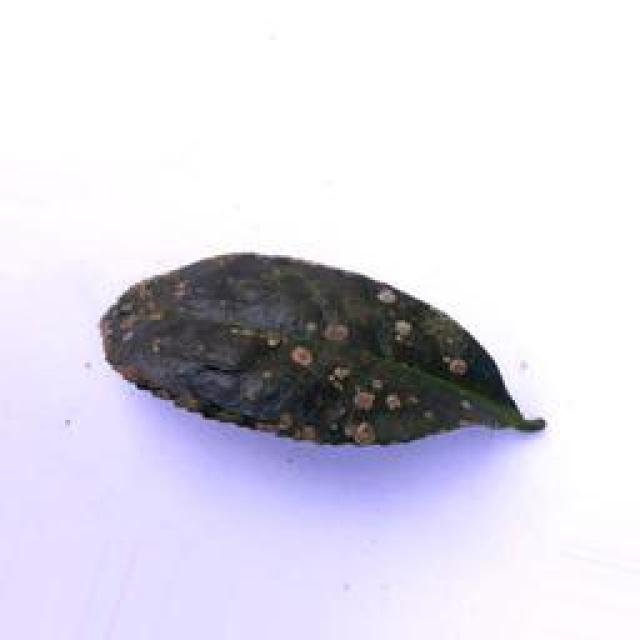Algal Leaf Spot: (89, 233, 551, 455)
